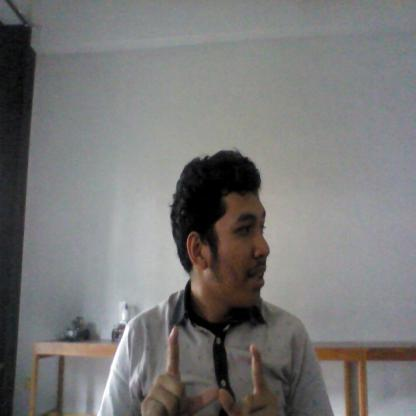W: (140, 324, 282, 416)
